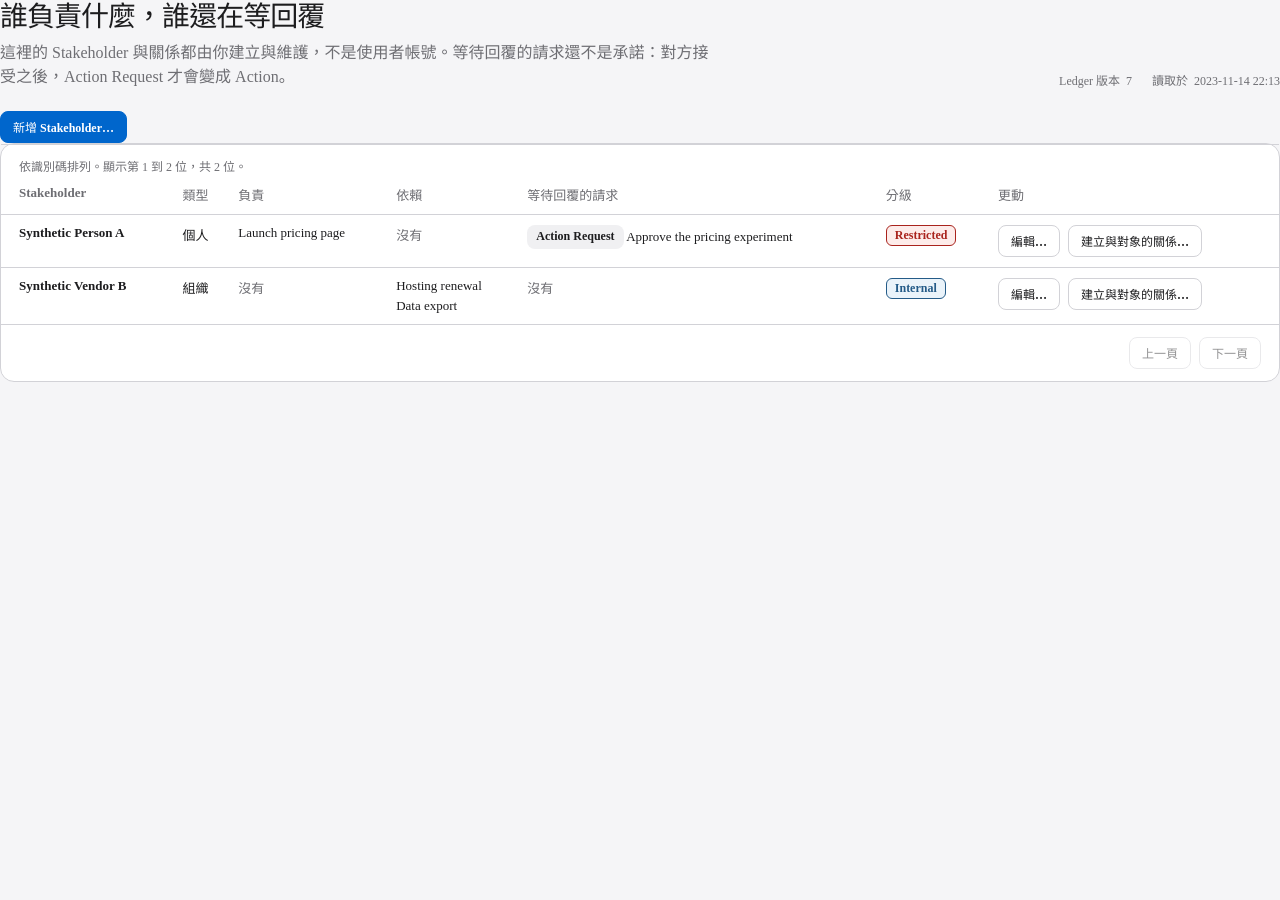
Test: People record entry (slice 6D) › creates a Stakeholder with a chosen kind under one request id
The image size is (1280, 900).
Expected: the table is shown, [1,145,1279,324]
Step 1. Click the button "新增 Stakeholder…" → (64,127), box [0,111,127,143]
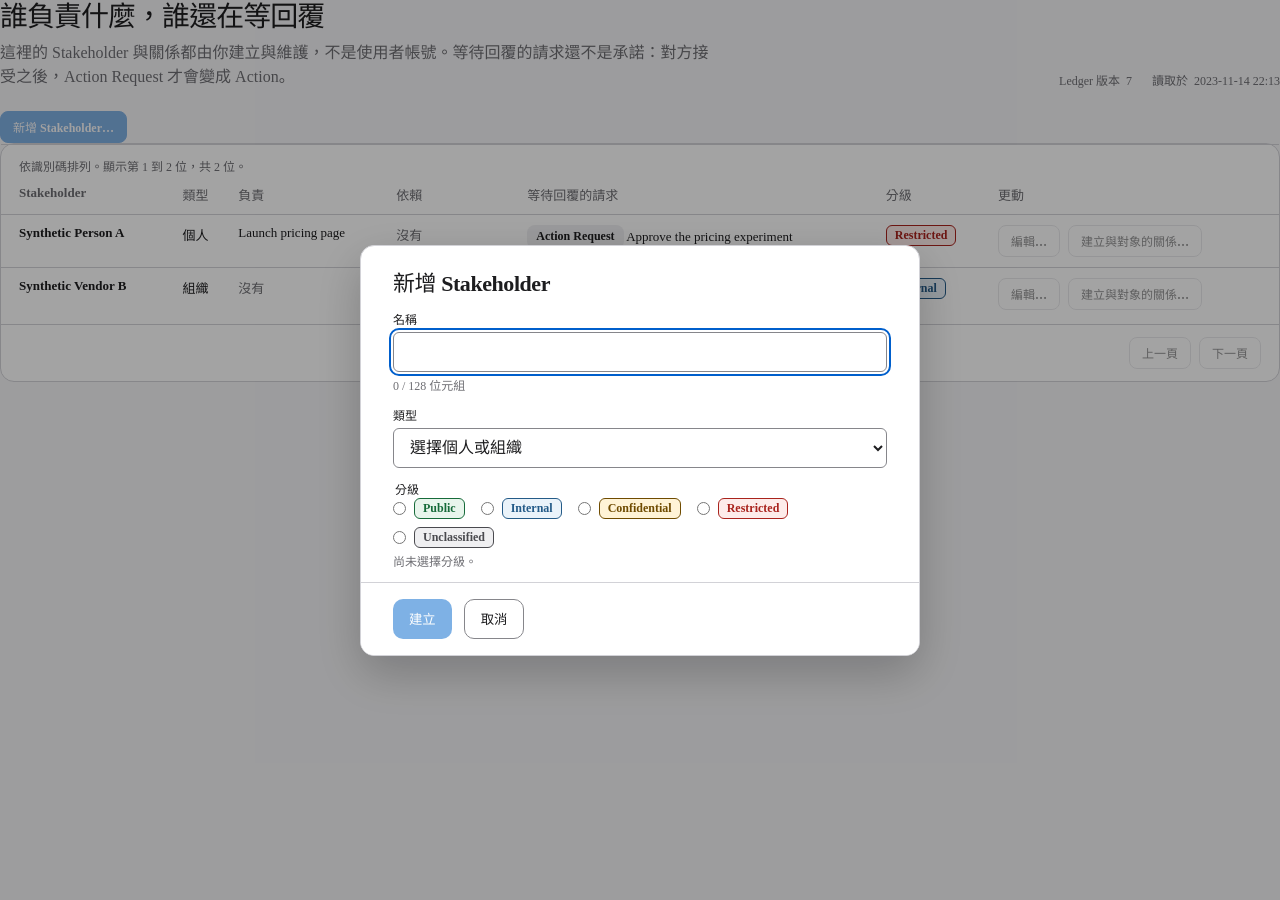
Step 2. Type "王小明" into the field labelled "名稱" → (640,352), box [393,332,887,372]
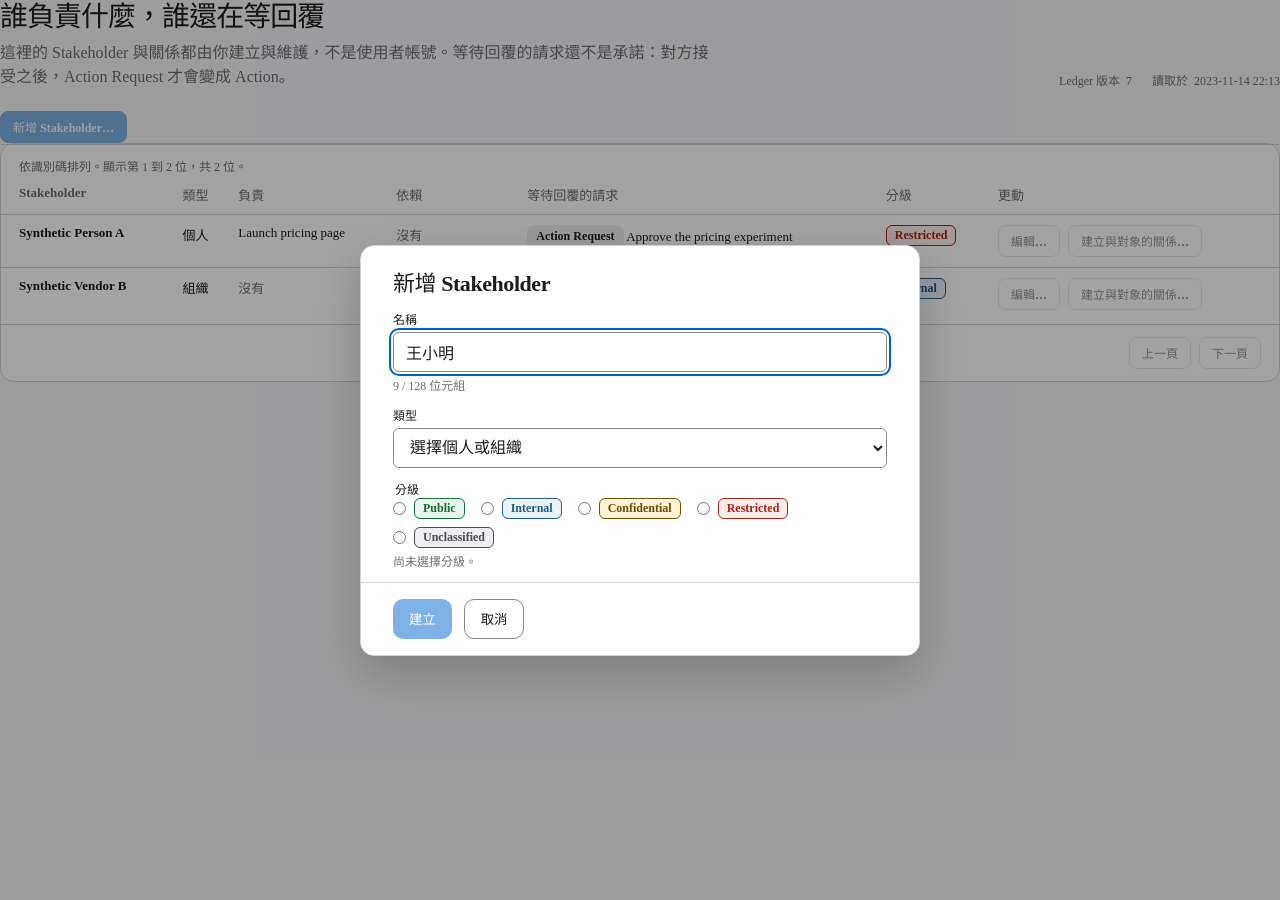
Expected: the button "建立" is disabled, [393,598,452,638]
Step 3. Select "個人" in the dropdown labelled "類型" → (640,448), box [393,428,887,468]
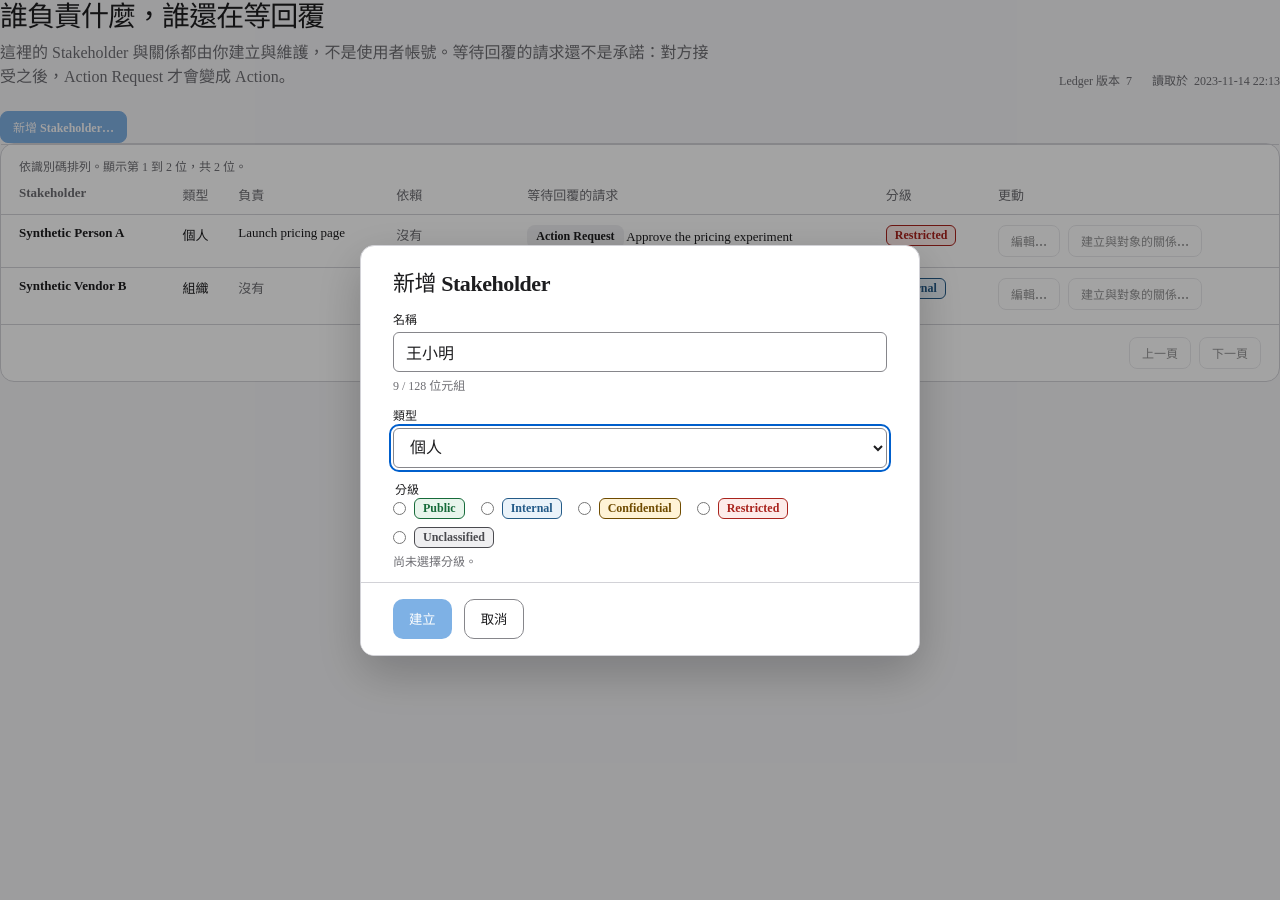
Step 4. Click the radio button labelled "Internal" → (487,508), box [481,502,494,514]
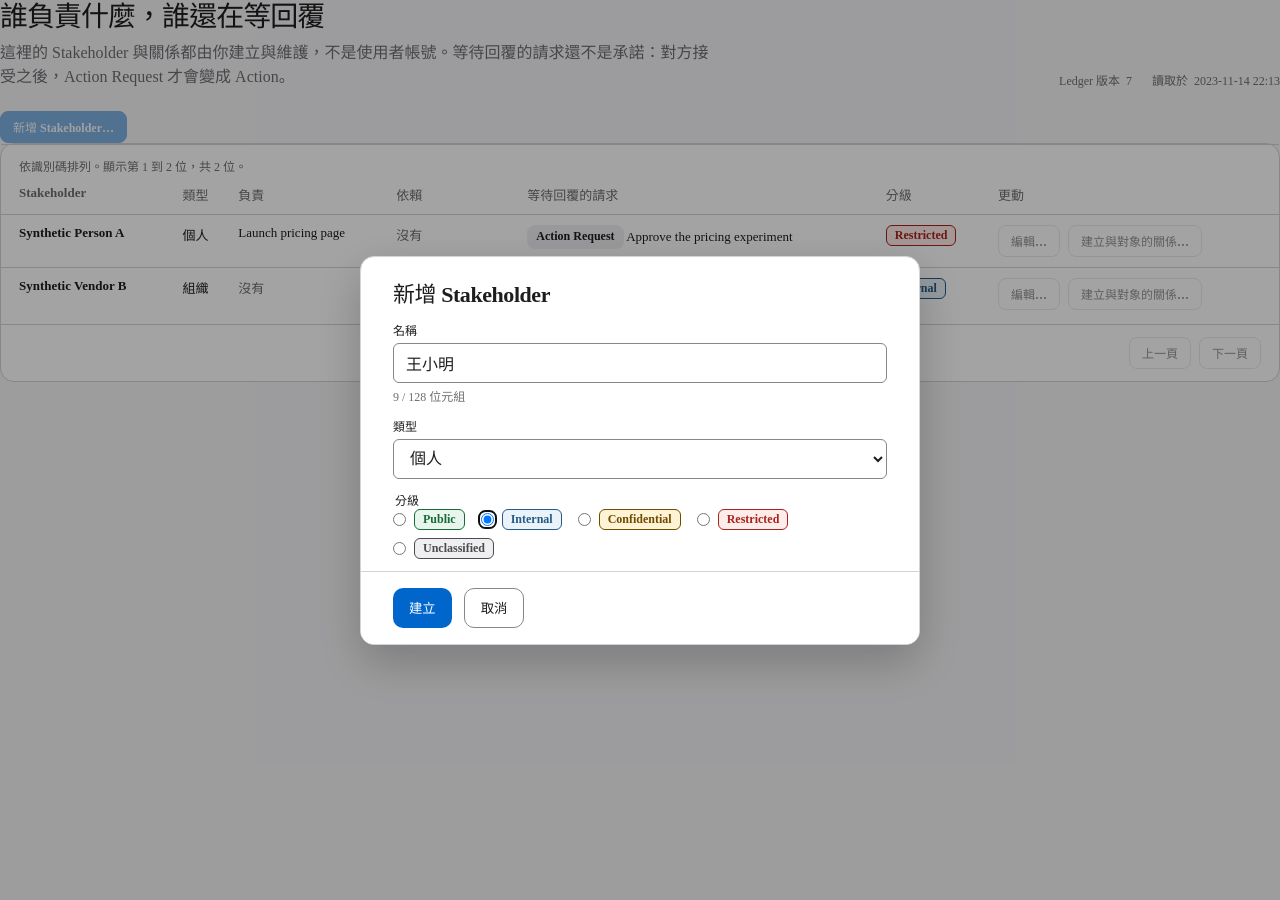
Step 5. Click the button "建立" → (422,608), box [393,588,452,628]
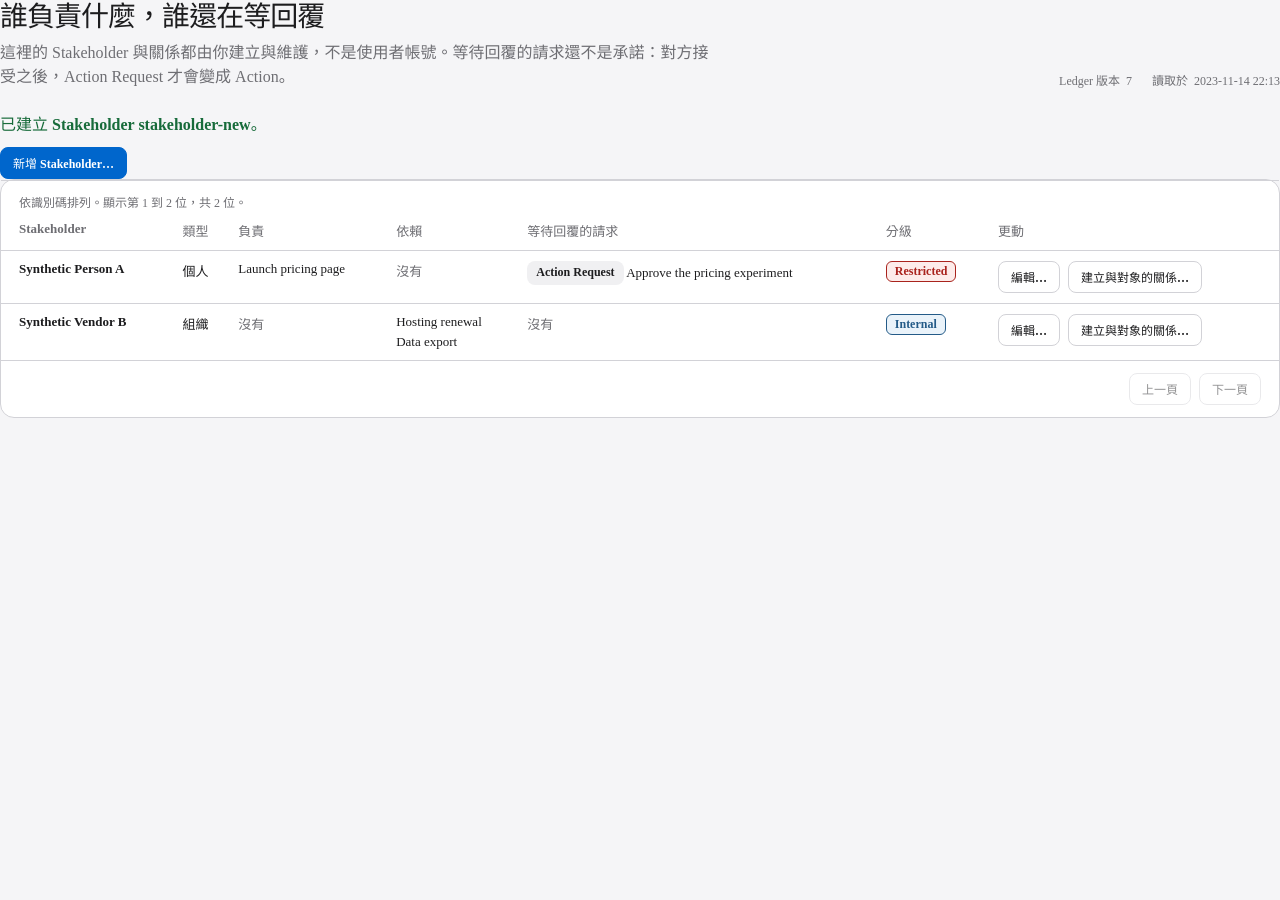
Expected: the message reads "已建立 Stakeholder stakeholder-new。", [0,116,267,133]
